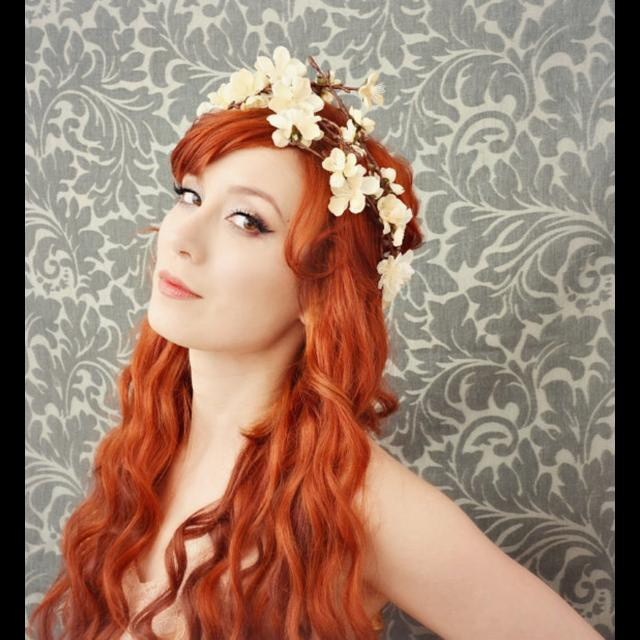Flower: (200, 45, 328, 152), (321, 108, 382, 216), (379, 170, 411, 246), (376, 251, 418, 299), (356, 74, 386, 106)
